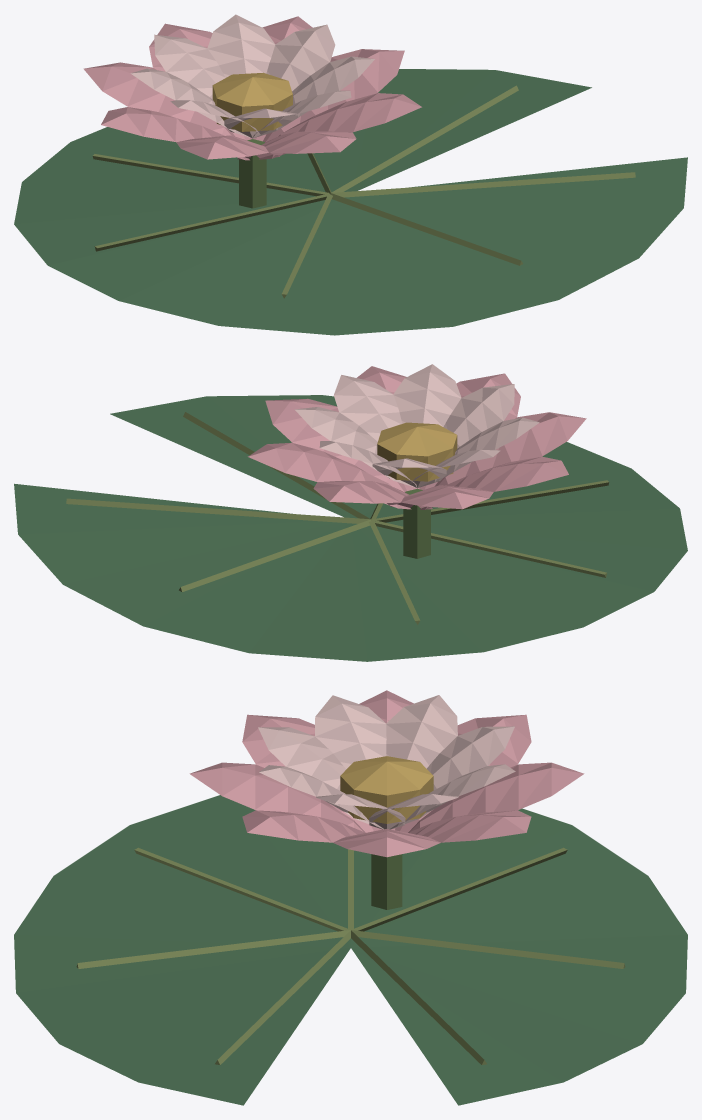
The model's file is lily_pad_flower.glb.
3 views of the same model, one above another, from view 1: azimuth 30°, elevation 25°; view 2: azimuth 150°, elevation 25°; view 3: azimuth 270°, elevation 25° (orthographic). The views are drawn at different scales.
Visible parts, largest first — view 1: geometry; view 2: geometry; view 3: geometry.
Part boxes in pixels (box(x1,y1,x2,y2)): geometry: box(14, 14, 687, 335); geometry: box(14, 364, 687, 661); geometry: box(14, 690, 687, 1105).
Size of the model in its own units: 0.8577 by 0.2107 by 0.7503.
